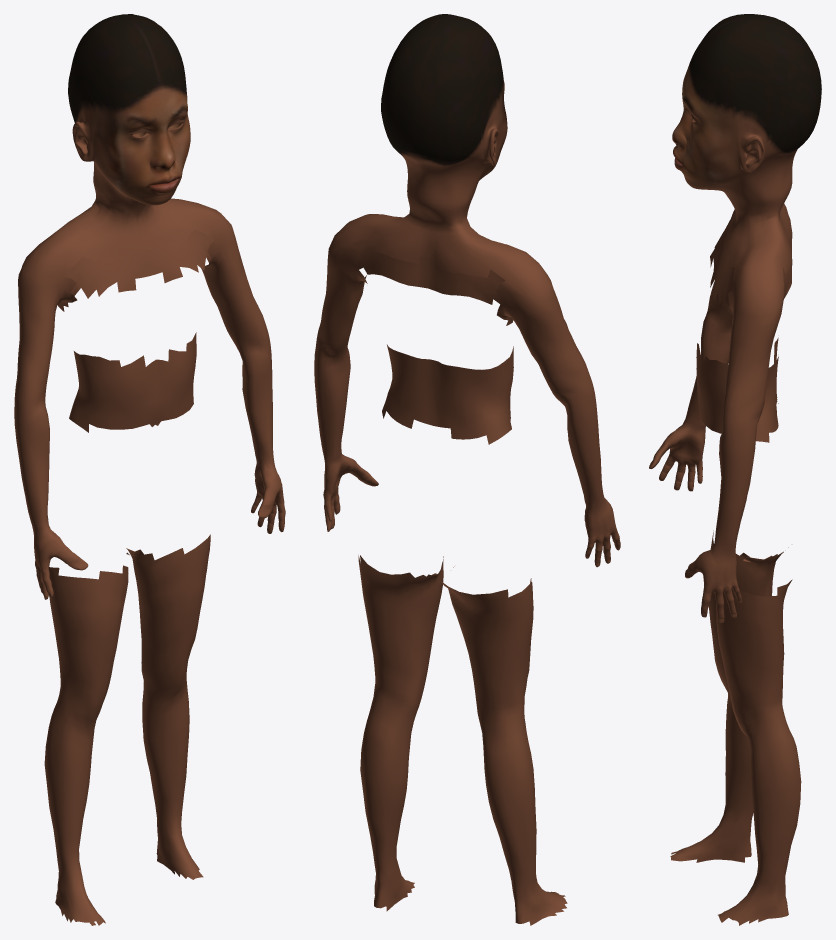
Rendered from streetwaer-portrait.glb.
3 renders of one model, left to right at view 1: azimuth 30°, elevation 25°; view 2: azimuth 150°, elevation 25°; view 3: azimuth 270°, elevation 25°, orthographic. The views are drawn at different scales.
Parts seen in each view (by area): view 1: Skin, TorsoUnderOuterwear; view 2: Skin, TorsoUnderOuterwear; view 3: Skin, TorsoUnderOuterwear.
Boxes of the visible parts, x1=… form: Skin: x1=14, y1=14, x2=285, y2=925; TorsoUnderOuterwear: x1=58, y1=229, x2=214, y2=432; Skin: x1=314, y1=14, x2=620, y2=925; TorsoUnderOuterwear: x1=352, y1=239, x2=513, y2=444; Skin: x1=649, y1=14, x2=821, y2=925; TorsoUnderOuterwear: x1=696, y1=212, x2=792, y2=442.
Bounding box in the file's own units: 1.08 × 3.4 × 0.6063.
